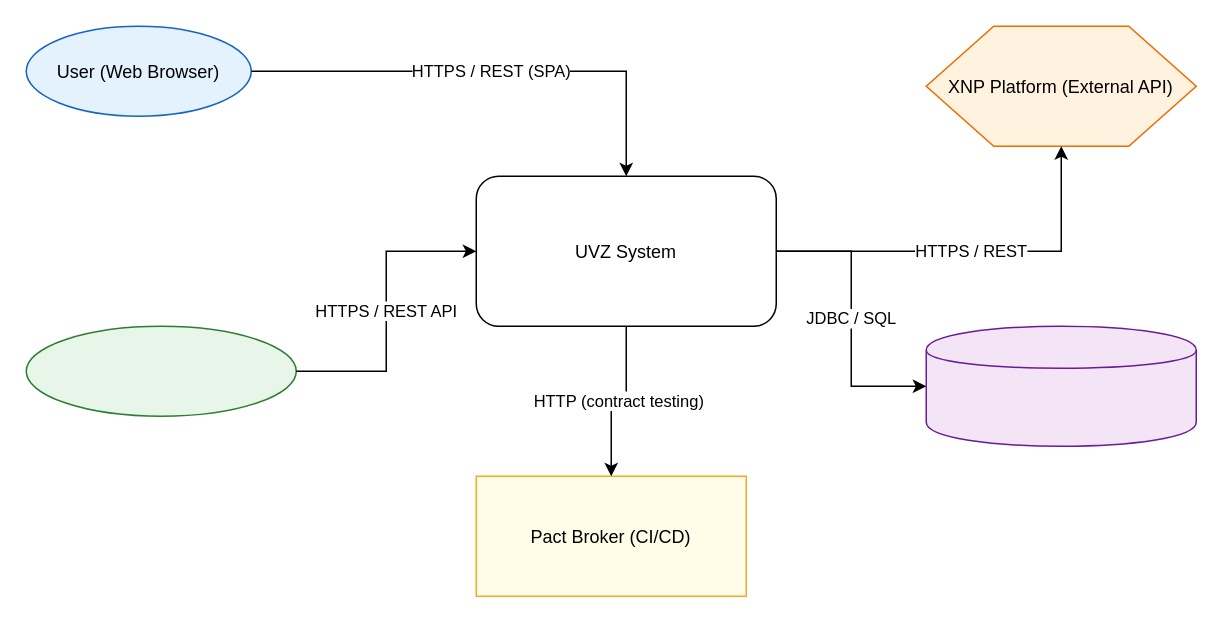
Image size: 1223x623. Some labels were removed from this diagram. The shapes that lost their labels are listed below. From the top down, each one's box as (x1, y1, x2, y2) in pixels, then its label:
(25, 325, 296, 416): External Client Application
(925, 325, 1196, 446): PostgreSQL Database
